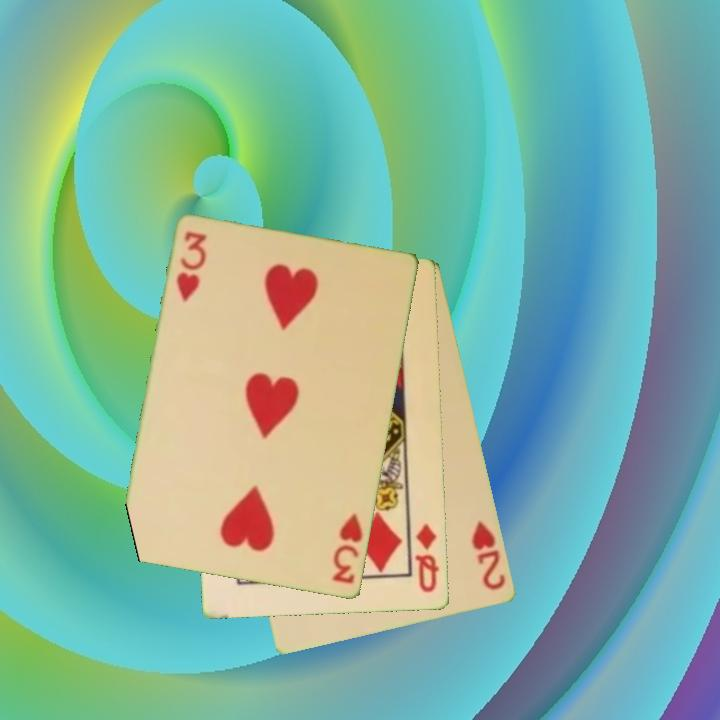2h: (468, 518, 509, 594)
3h: (173, 228, 210, 306), (329, 510, 366, 587)
Qd: (412, 521, 442, 596)
